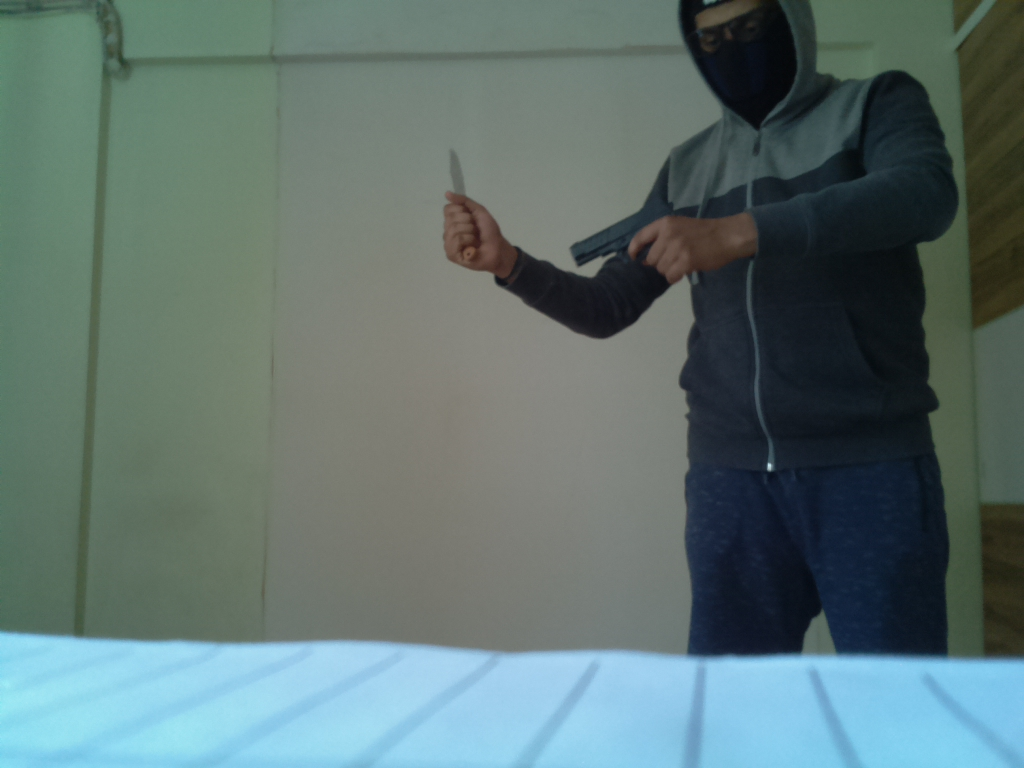gun: (570, 194, 689, 272)
knife: (442, 141, 475, 238)
